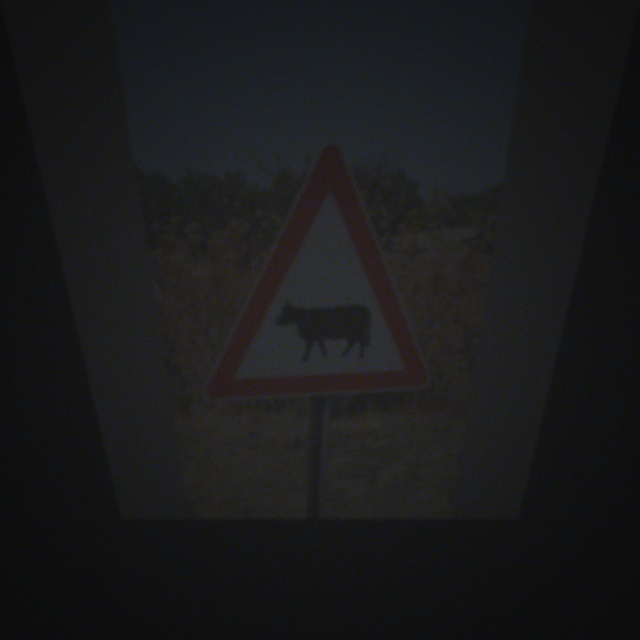Cattle: (189, 147, 459, 400)
